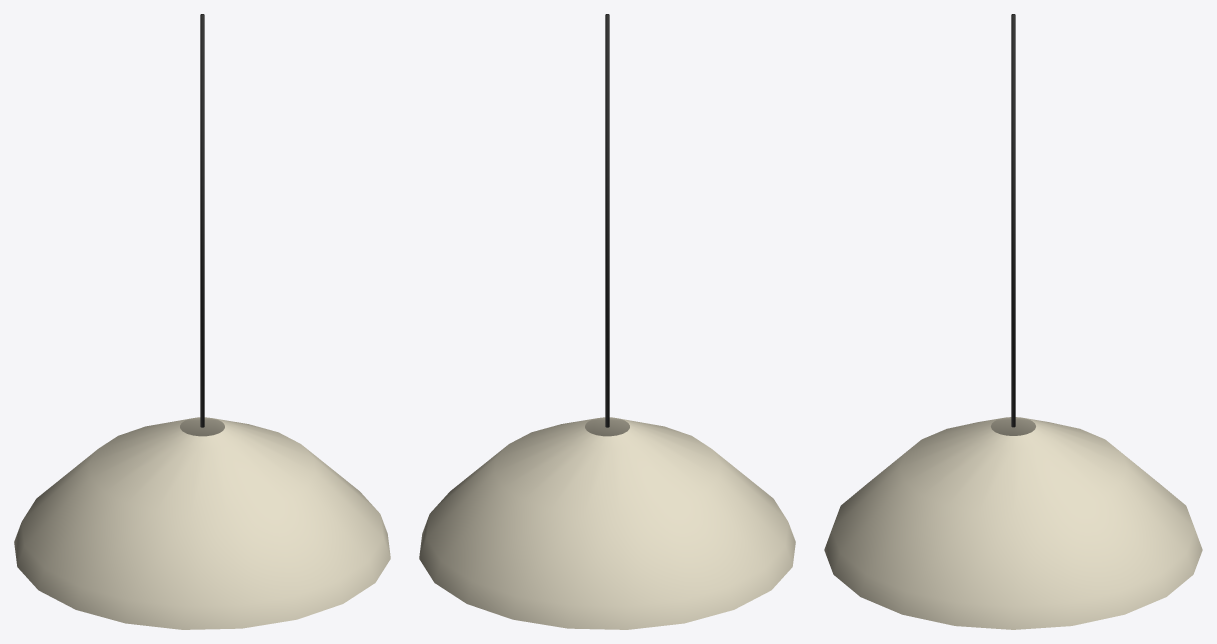
File: PendantLamp.gltf
3 renders of one model, left to right at view 1: azimuth 30°, elevation 25°; view 2: azimuth 150°, elevation 25°; view 3: azimuth 270°, elevation 25°, orthographic.
Parts seen in each view (by area): view 1: A_PendantLamp; view 2: A_PendantLamp; view 3: A_PendantLamp.
Part boxes in pixels (x1=…): A_PendantLamp: x1=14, y1=14, x2=390, y2=629; A_PendantLamp: x1=419, y1=14, x2=795, y2=629; A_PendantLamp: x1=824, y1=14, x2=1202, y2=629.
Size of the model in its own units: 0.5 by 0.78 by 0.5.
